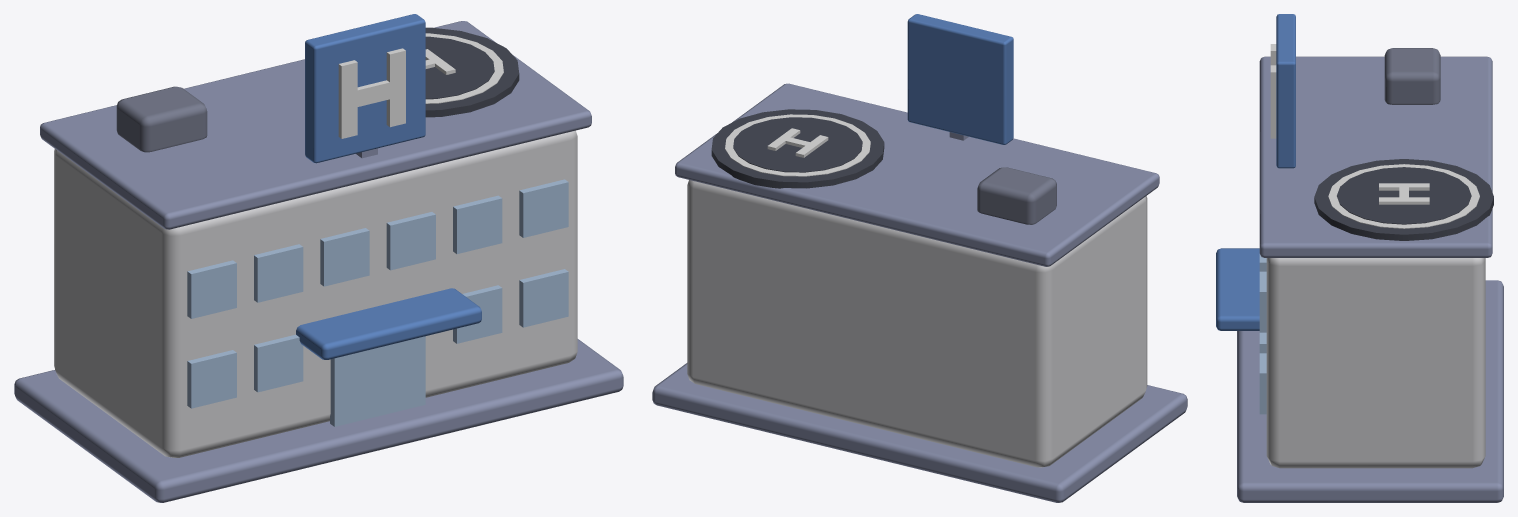
Rendered from hospital.glb.
3 renders of one model, left to right at view 1: azimuth 30°, elevation 25°; view 2: azimuth 150°, elevation 25°; view 3: azimuth 270°, elevation 25°, orthographic. The views are drawn at different scales.
Parts seen in each view (by area): view 1: modelo; view 2: modelo; view 3: modelo.
Boxes of the visible parts, x1,y1,x2,y2 form: modelo: [14, 14, 623, 502]; modelo: [652, 14, 1187, 502]; modelo: [1216, 14, 1503, 502].
Size of the model in its own units: 3.15 by 2.57 by 1.85.
